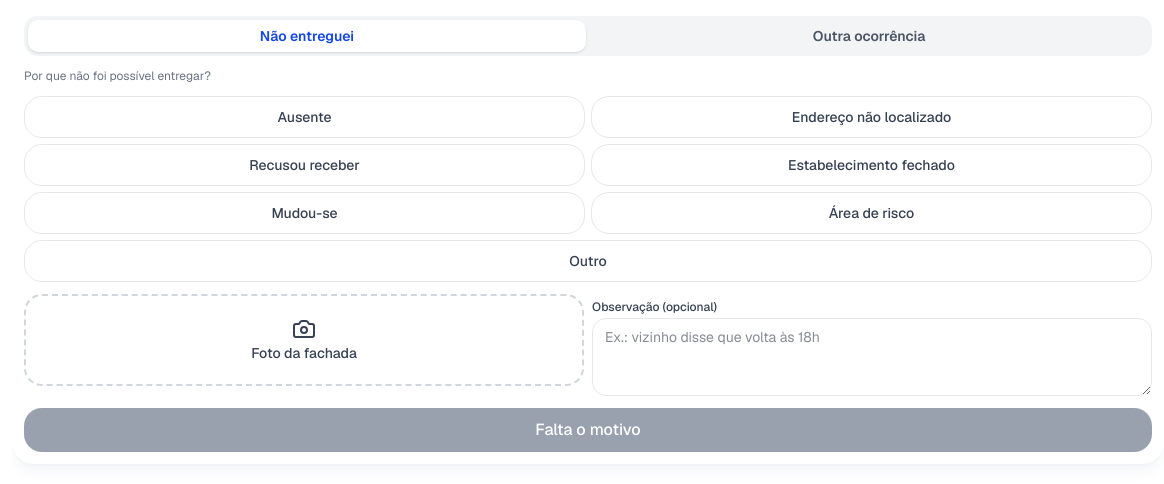
Test case: tela de tentativa de entrega sem sucesso › abre em 'Não entreguei' com os motivos padronizados; a ocorrência comum fica na outra aba
Expected: the button "Falta o motivo" is shown, left=24, top=408, right=1152, bottom=452
Expected: the element showing "Foto da fachada" is shown, left=24, top=294, right=584, bottom=396
Click the tab "Outra ocorrência": (869, 36) left=590, top=20, right=1148, bottom=52
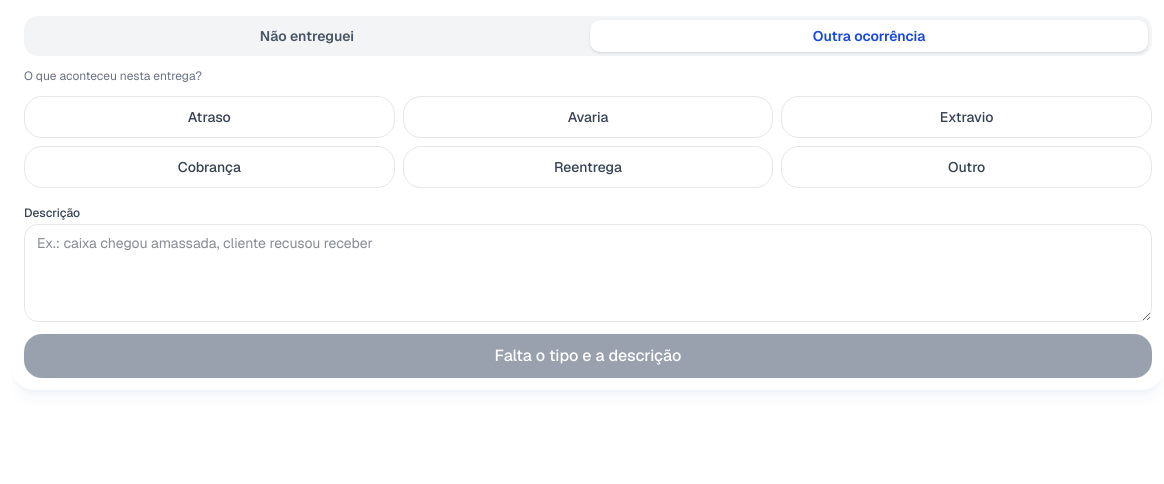
Now the number of radio buttons is 6, box left=24, top=96, right=395, bottom=138; left=403, top=96, right=773, bottom=138; left=781, top=96, right=1152, bottom=138; left=24, top=146, right=395, bottom=188; left=403, top=146, right=773, bottom=188; left=781, top=146, right=1152, bottom=188
